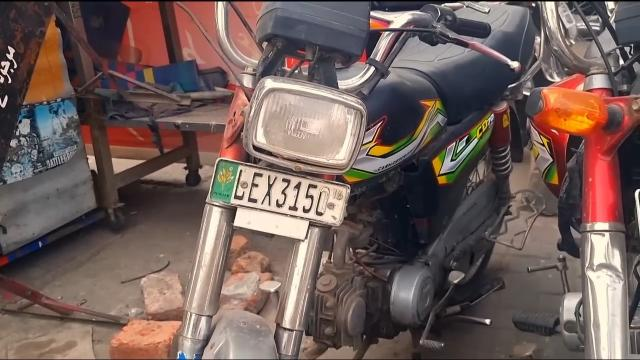plate: (207, 158, 350, 227)
